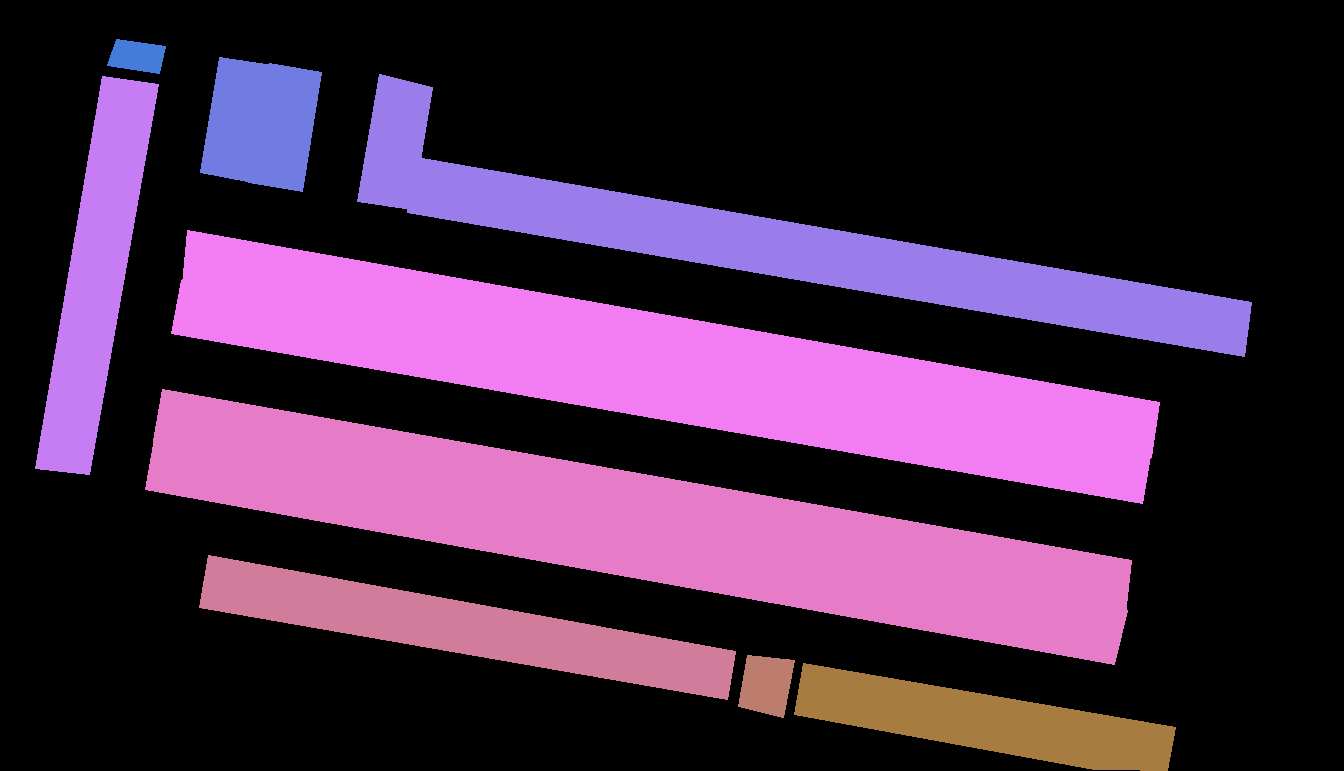parkingspot: (145, 438, 1127, 664), (182, 230, 1159, 457), (153, 389, 1131, 614), (171, 280, 1151, 503), (407, 157, 1251, 356), (199, 555, 735, 699), (35, 76, 158, 474), (794, 663, 1175, 770), (357, 74, 432, 209), (248, 63, 321, 191), (200, 57, 272, 182), (738, 655, 794, 717), (107, 39, 165, 73)
